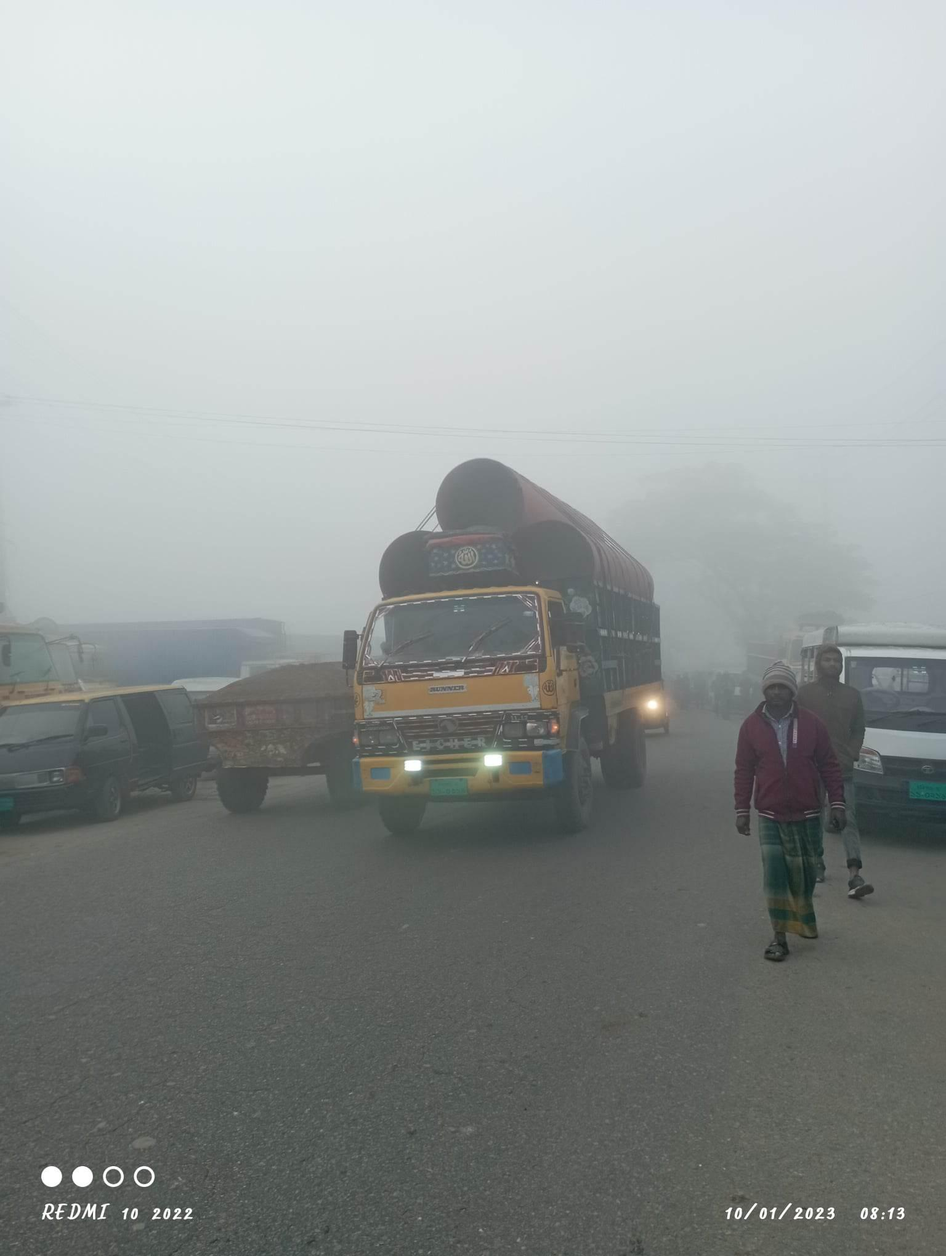Car: (788, 595, 945, 849), (7, 676, 206, 828)
Truck: (301, 468, 689, 837), (182, 642, 362, 819)
